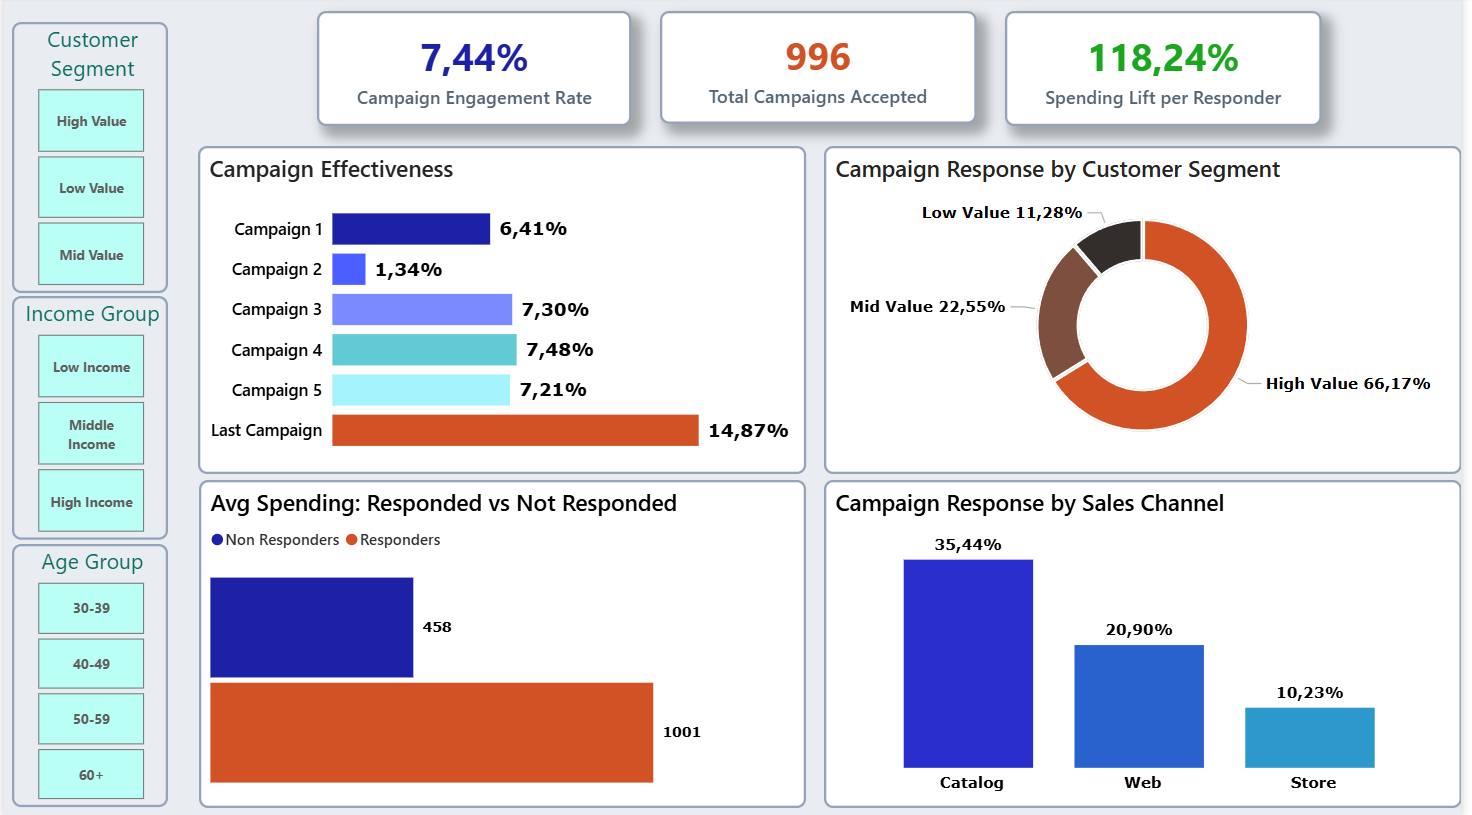

The dashboard page shown, as its layout file describes it:
{"tool":"powerbi","page":{"name":"Marketing_Campaign_Performance_en","canvas":[1280,720],"ordinal":1},"visuals":[{"type":"card","fields":{"Values":["_Measures.Campaign Engagement Rate (Universal)"]},"box":[275,11.9,276.4,100.6],"z":0},{"type":"card","fields":{"Values":["_Measures.Total Campaigns Accepted (Universal)"]},"box":[576.3,11.9,277.6,99],"z":1000},{"type":"card","title":"Marketing Impact on Spending","fields":{"Values":["_Measures.Marketing Impact %"]},"box":[878.7,11.9,277.8,100.6],"z":2000},{"type":"clusteredBarChart","title":"Avg Spending: Responded vs Not Responded","fields":{"Y":["_Measures.Non Responders Avg Spending (Virtual)","_Measures.Responders Avg Spending (Virtual)"]},"box":[171.5,423.8,532.9,287.7],"z":3000},{"type":"donutChart","title":"Campaign Response by Customer Segment","fields":{"Category":["marketing_campaign_features.Customer Segment"],"Y":["_Measures.Segment Response Rate (Virtual)"]},"box":[720,130.4,559.8,287.7],"z":4000},{"type":"clusteredColumnChart","title":"Campaign Response by Sales Channel","fields":{"Y":["_Measures.Channel Response Rate (Virtual)"],"Category":["marketing_campaign_features.Preferred_Channel"]},"box":[720,423.8,559.8,287.7],"z":5000},{"type":"slicer","title":"Customer Segment","fields":{"Values":["marketing_campaign_features.Customer Segment UA"]},"box":[7.1,21.7,137.5,238.1],"z":6000},{"type":"slicer","title":"Income Group","fields":{"Values":["marketing_campaign_features.Income Group"]},"box":[7.1,262.6,137.5,214],"z":7000},{"type":"slicer","title":"Age Group","fields":{"Values":["marketing_campaign_features.Age Group"]},"box":[7.1,480.5,137.5,231],"z":8000},{"type":"clusteredBarChart","title":"Campaign Effectiveness","fields":{"Y":["_Measures.Avg Response Rate"],"Category":["Campaign_Unpivoted.Campaign Name"]},"box":[170.3,130.5,534.4,288.3],"z":9000}]}

Visuals, with their boxes in screenshot pixels (x1, y1, x2, y2), scaled from the page's 1280x720 canvas onto the 1472x815 screenshot:
card - _Measures.Campaign Engagement Rate (Universal): 316:13:634:127
card - _Measures.Total Campaigns Accepted (Universal): 663:13:982:126
"Marketing Impact on Spending" card: 1011:13:1330:127
"Avg Spending: Responded vs Not Responded" clusteredBarChart: 197:480:810:805
"Campaign Response by Customer Segment" donutChart: 828:148:1471:473
"Campaign Response by Sales Channel" clusteredColumnChart: 828:480:1471:805
"Customer Segment" slicer: 8:25:166:294
"Income Group" slicer: 8:297:166:539
"Age Group" slicer: 8:544:166:805
"Campaign Effectiveness" clusteredBarChart: 196:148:810:474
